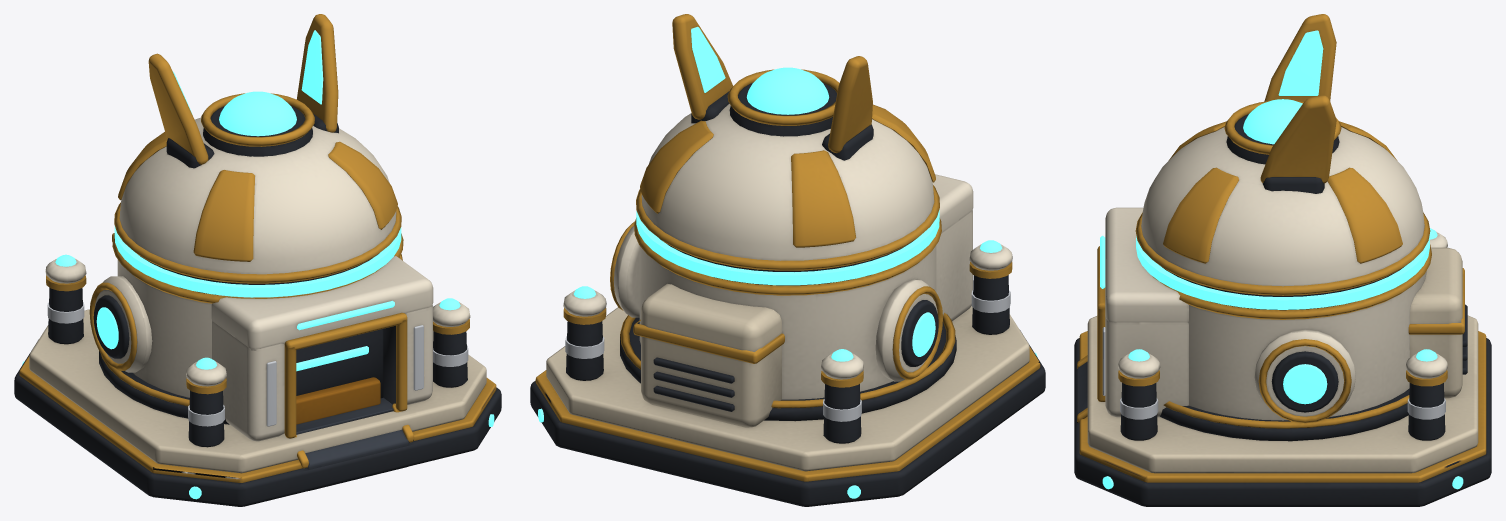
Rendered from ambron_citadel.glb.
3 renders of one model, left to right at view 1: azimuth 30°, elevation 25°; view 2: azimuth 150°, elevation 25°; view 3: azimuth 270°, elevation 25°, orthographic. The views are drawn at different scales.
Visible parts, largest first — view 1: ambron_citadel; view 2: ambron_citadel; view 3: ambron_citadel.
Part boxes in pixels (left/top/right/bottom): ambron_citadel: left=14, top=14, right=501, bottom=506; ambron_citadel: left=530, top=14, right=1045, bottom=506; ambron_citadel: left=1074, top=14, right=1491, bottom=506.
Bounding box in the file's own units: 4.7 × 4.54 × 4.7.
3 materials, 1 textured.
